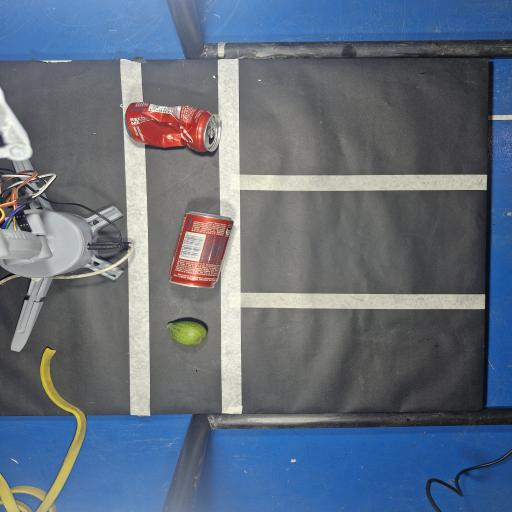higo: (167, 321, 207, 346)
lata: (169, 212, 233, 288)
lata_defectuoso: (125, 102, 221, 152)
